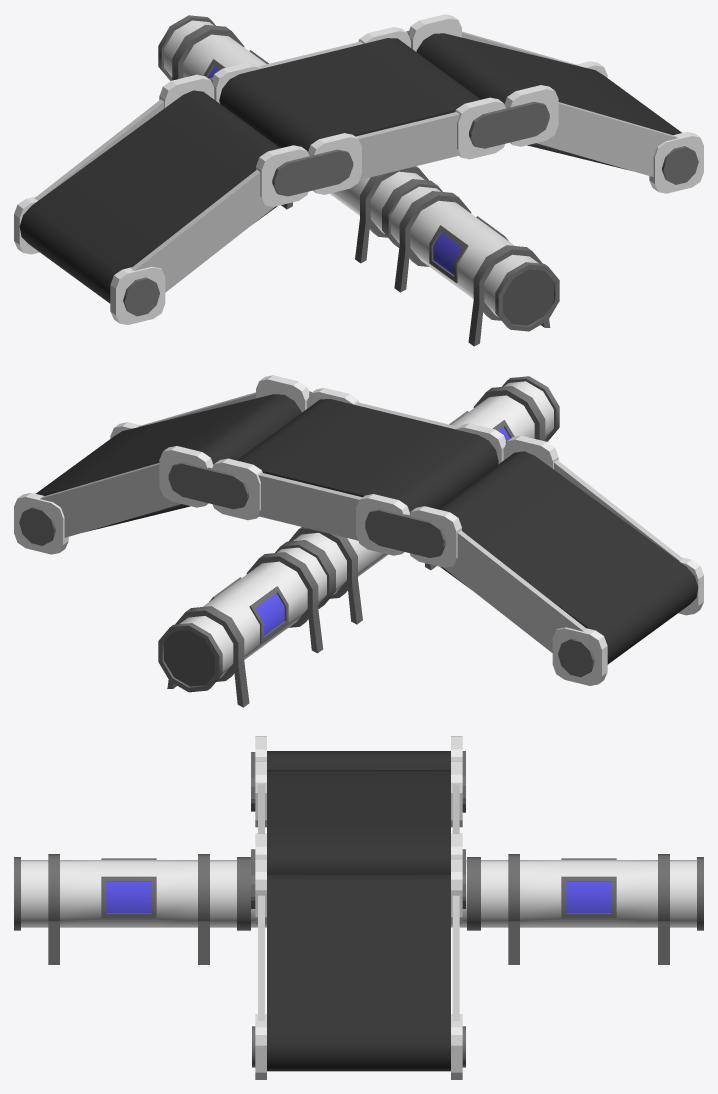
The model's file is ConveyorPipeBridge.fbx.
The picture shows the model from 3 angles, top to bottom: view 1: azimuth 30°, elevation 25°; view 2: azimuth 150°, elevation 25°; view 3: azimuth 270°, elevation 25°; orthographic projection.
Visible parts, largest first — view 1: Pipe, Fluid; view 2: Pipe, Fluid_2; view 3: Pipe, Fluid, Fluid_2.
Boxes of the visible parts, bbox=[...] form: Pipe: bbox=[14, 14, 703, 346]; Fluid: bbox=[433, 232, 462, 274]; Pipe: bbox=[14, 375, 703, 707]; Fluid_2: bbox=[255, 593, 284, 635]; Pipe: bbox=[14, 736, 703, 1079]; Fluid: bbox=[106, 882, 151, 912]; Fluid_2: bbox=[566, 882, 611, 912].
Size of the model in its own units: 299 by 68.16 by 300.
